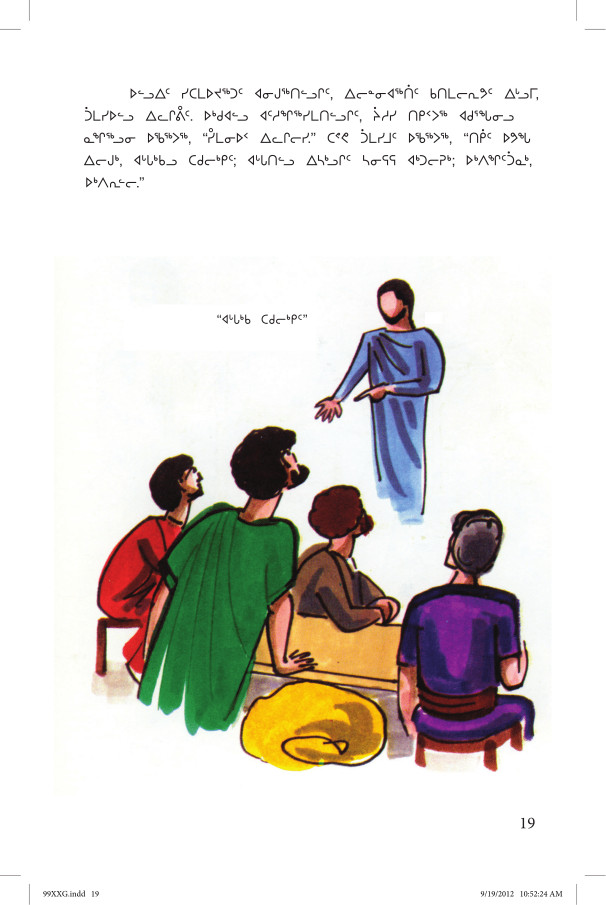inuktitut: (74, 73, 560, 194), (208, 301, 314, 332)
